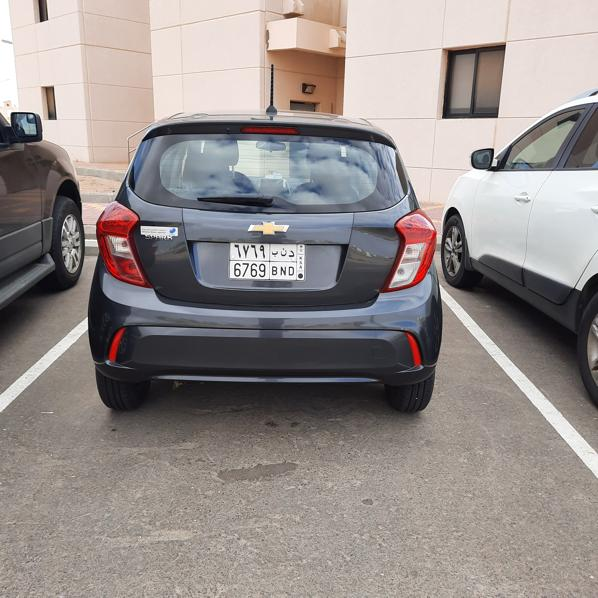numberplate: (230, 242, 305, 280)
